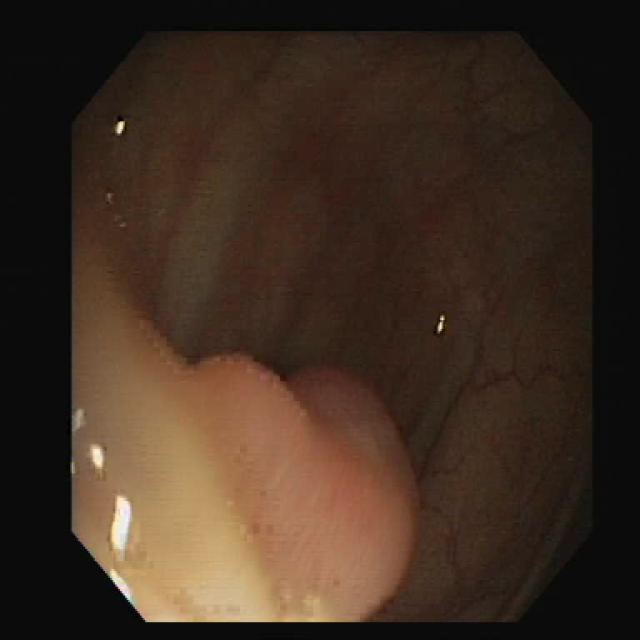tumor: (177, 353, 417, 618)
